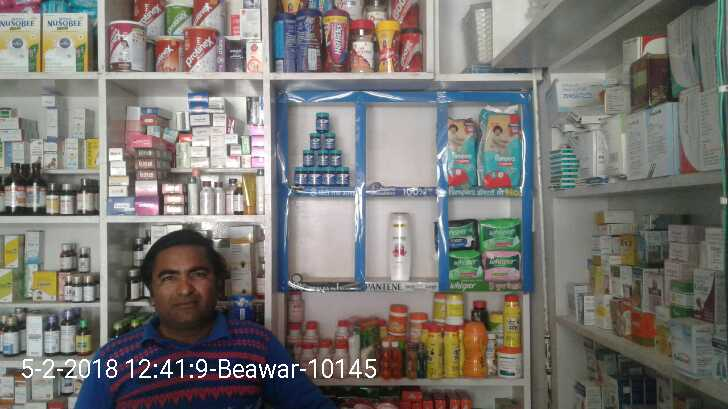vicks: (291, 108, 346, 185)
